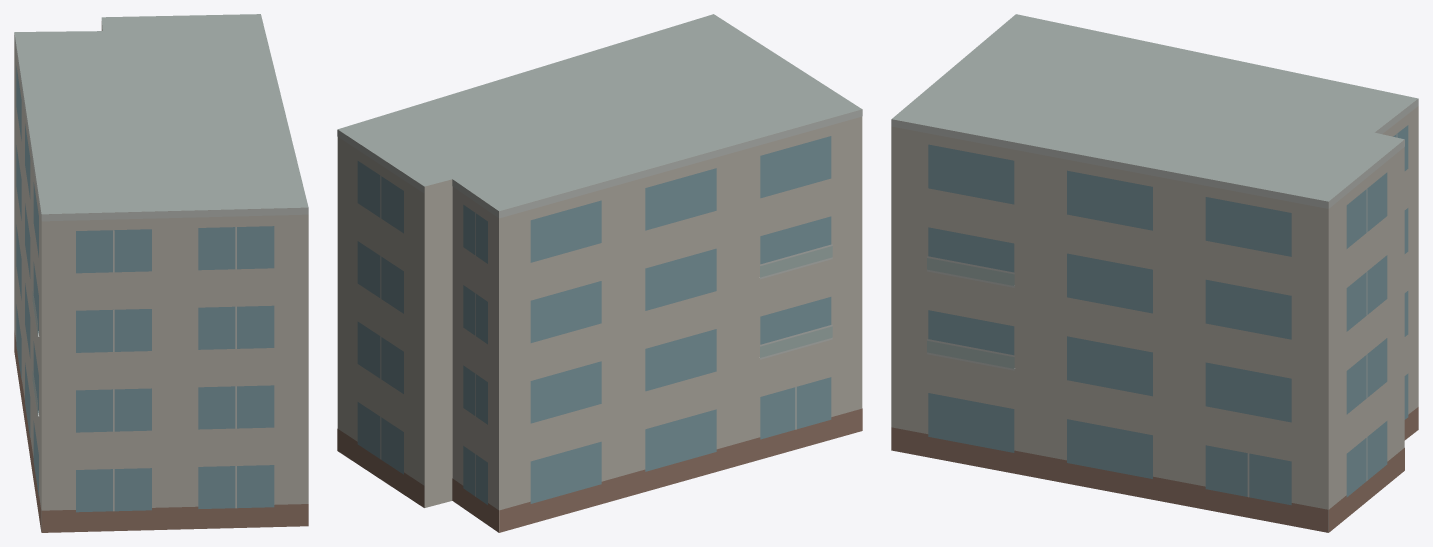
File: survey-upis-32727871.glb
3 renders of one model, left to right at view 1: azimuth 30°, elevation 25°; view 2: azimuth 150°, elevation 25°; view 3: azimuth 270°, elevation 25°, orthographic. The views are drawn at different scales.
Parts seen in each view (by area): view 1: survey-upis-32727871.tmp; view 2: survey-upis-32727871.tmp; view 3: survey-upis-32727871.tmp.
Boxes of the visible parts, left/top/right/bottom form: survey-upis-32727871.tmp: left=14, top=14, right=308, bottom=532; survey-upis-32727871.tmp: left=337, top=14, right=862, bottom=532; survey-upis-32727871.tmp: left=891, top=14, right=1418, bottom=532.
Size of the model in its own units: 13.37 by 11 by 15.87.
